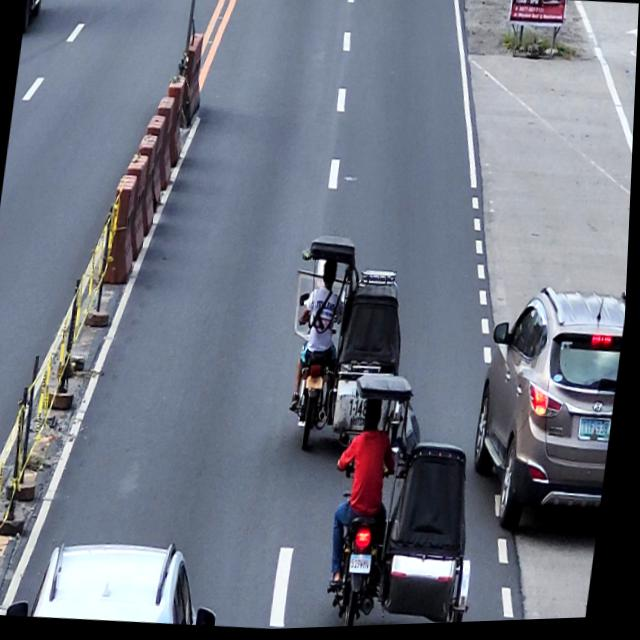Car: (468, 282, 629, 542), (10, 529, 231, 633)
License-Plate: (581, 418, 615, 447), (352, 553, 378, 578), (308, 375, 328, 394)
Tricycle: (326, 371, 502, 630), (277, 233, 422, 464)
